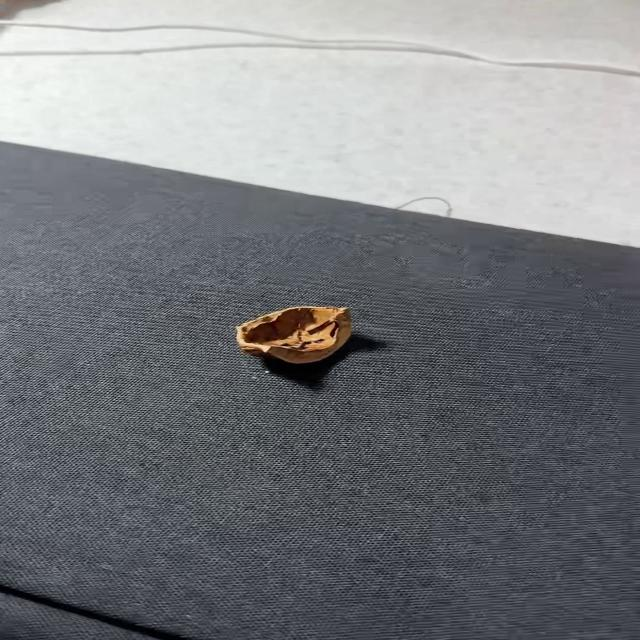nuts-bad0.25: (236, 307, 350, 364)
